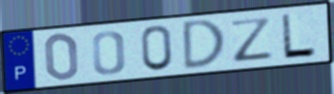0: (42, 31, 80, 82), (91, 29, 128, 76), (140, 24, 175, 72)
D: (182, 17, 228, 72)
L: (279, 12, 319, 60)
Z: (228, 15, 275, 63)
